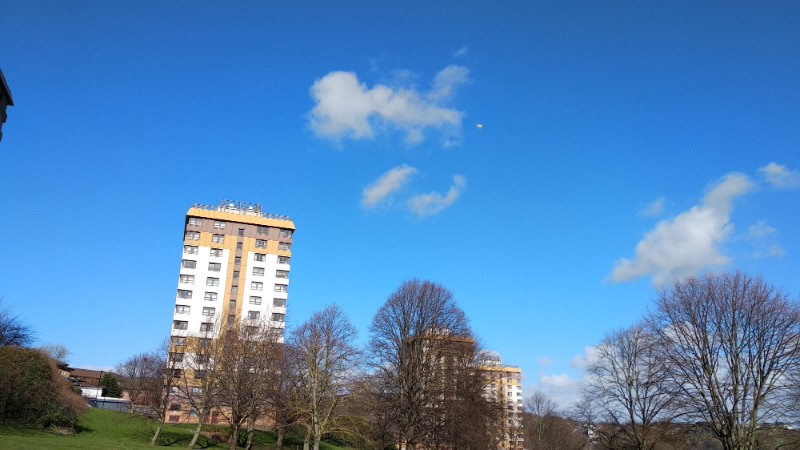drone: (474, 121, 483, 129)
